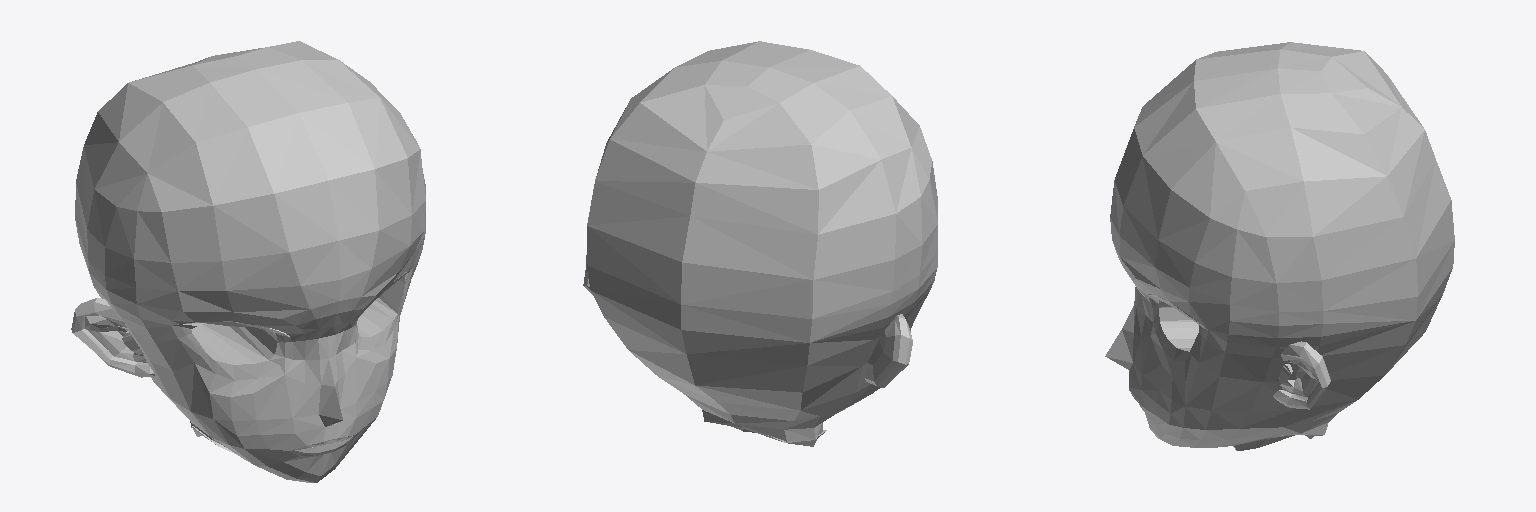
Rendered from skin.obj.
3 views of the same model, side by side, from view 1: azimuth 30°, elevation 25°; view 2: azimuth 150°, elevation 25°; view 3: azimuth 270°, elevation 25° (orthographic).
Size of the model in its own units: 29.66 by 32.75 by 27.67.